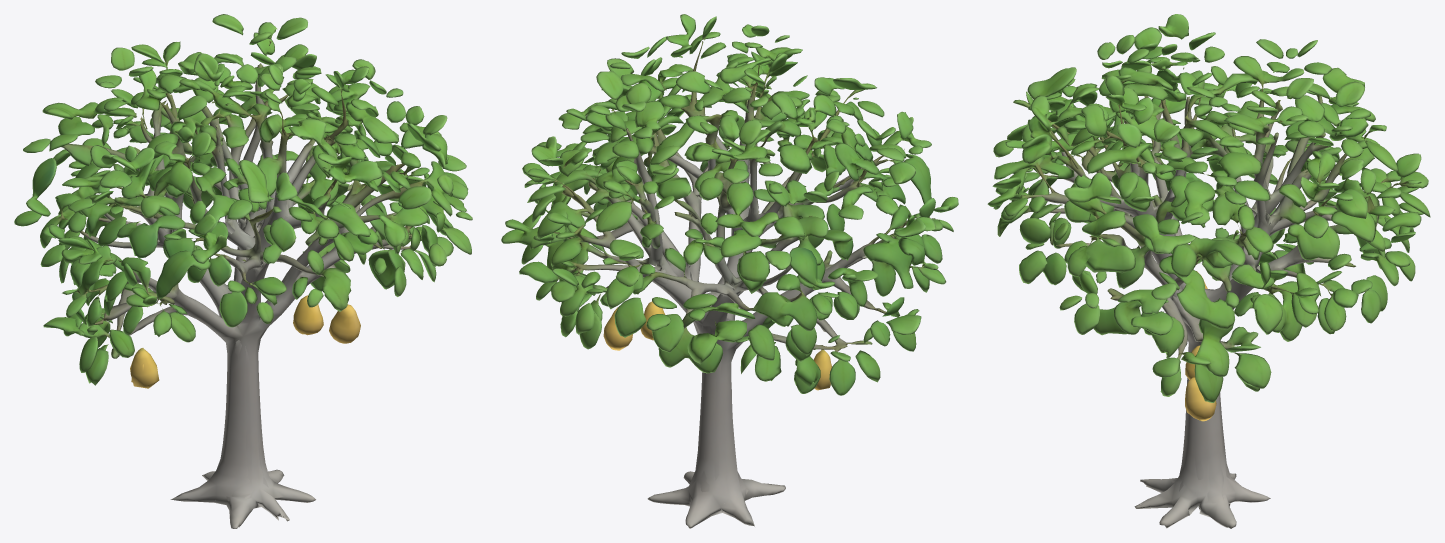
The model's file is pear_tree.glb.
3 renders of one model, left to right at view 1: azimuth 30°, elevation 25°; view 2: azimuth 150°, elevation 25°; view 3: azimuth 270°, elevation 25°, orthographic. The views are drawn at different scales.
Visible parts, largest first — view 1: model; view 2: model; view 3: model.
Part boxes in pixels (<box>): model: <box>14,14,472,528</box>; model: <box>501,14,958,528</box>; model: <box>987,14,1430,528</box>.
Size of the model in its own units: 1.74 by 1.89 by 1.64.
1 material, 1 textured.
